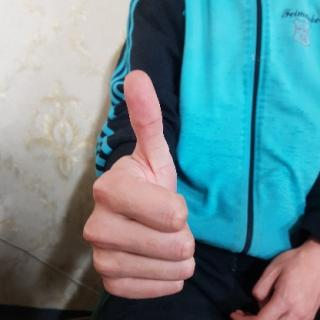ALIF: (81, 62, 214, 308)
